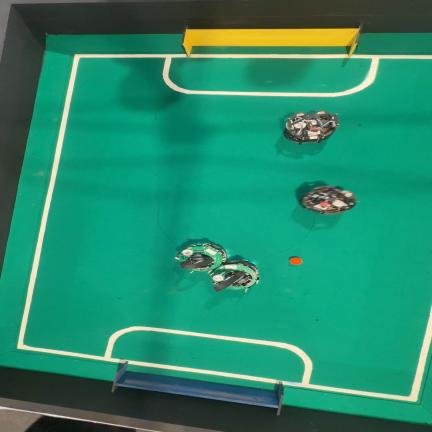cancha: (0, 34, 431, 424)
limites: (17, 54, 431, 401)
pelota: (290, 258, 302, 265)
porteria: (112, 362, 283, 415), (182, 25, 362, 56)
robot: (284, 110, 338, 145), (298, 184, 357, 215), (212, 260, 259, 292), (175, 243, 226, 272)
